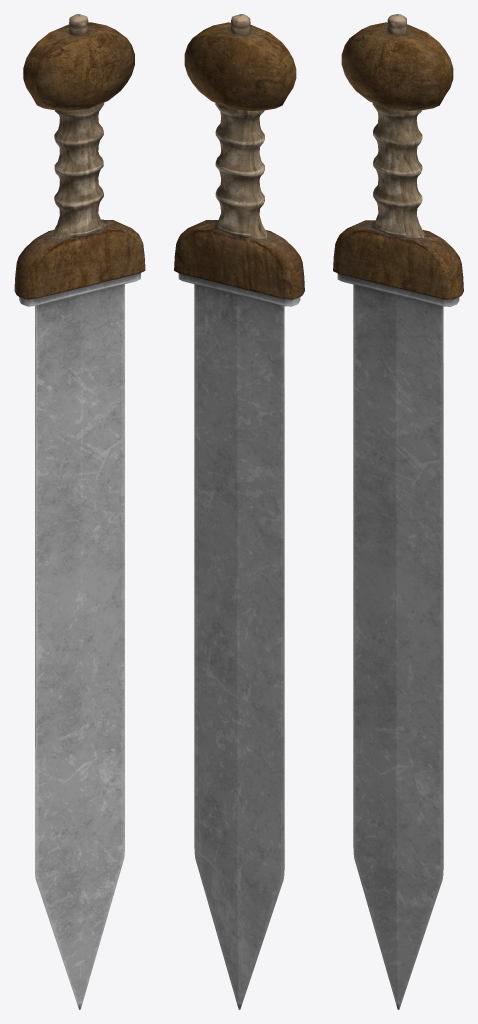
The model's file is gladius_aren_boada.glb.
3 views of the same model, side by side, from view 1: azimuth 30°, elevation 25°; view 2: azimuth 150°, elevation 25°; view 3: azimuth 330°, elevation 25° (orthographic).
Visible parts, largest first — view 1: Object_2; view 2: Object_2; view 3: Object_2.
Boxes of the visible parts, x1=… form: Object_2: x1=14, y1=14, x2=145, y2=1009; Object_2: x1=174, y1=14, x2=304, y2=1009; Object_2: x1=333, y1=14, x2=463, y2=1009.
Bounding box in the file's own units: 9.71 × 74.17 × 4.31.
1 material, 1 textured.
